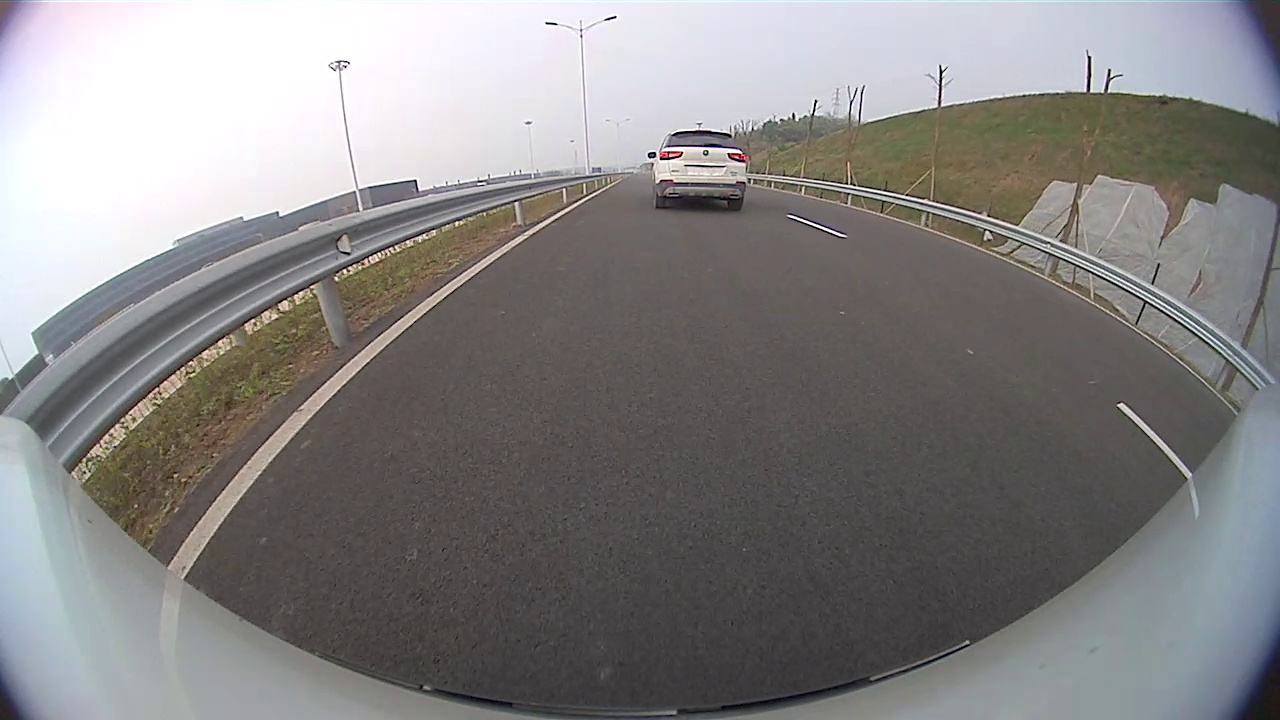car: (648, 128, 749, 211)
